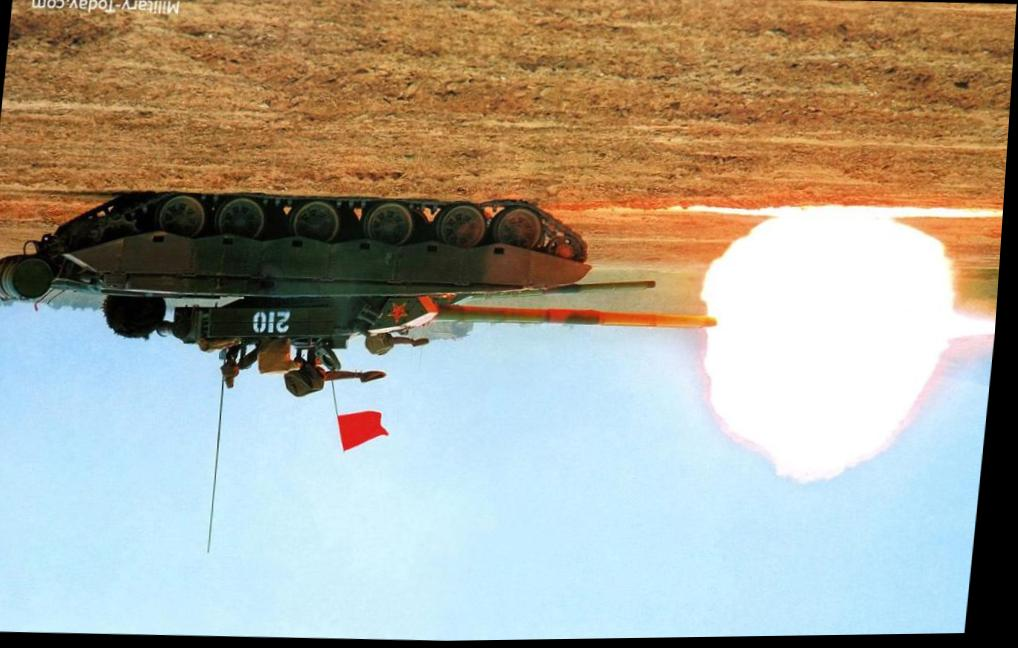tank: (0, 174, 729, 416)
